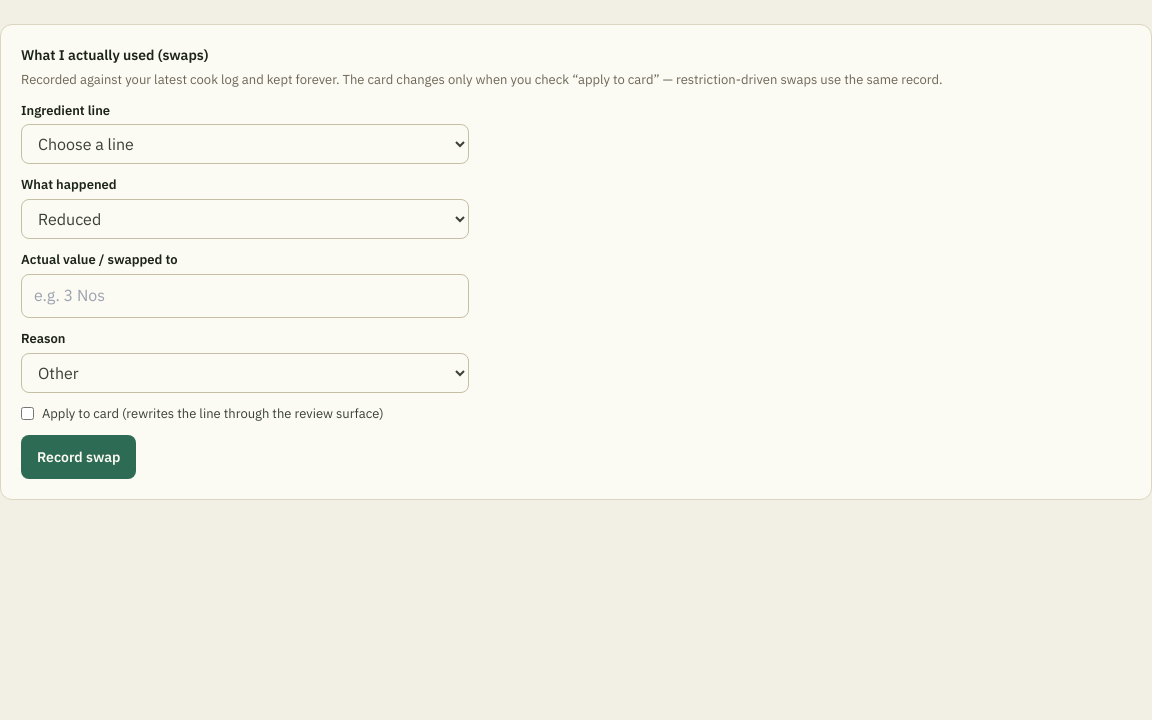
Test case: SwapSection (D-26 F3/H5) › records a swap against the latest cook log without touching the card
Select "Chilli — 5 Nos" in the dropdown labelled "Ingredient line" at x=245, y=144, box [21, 124, 469, 164]
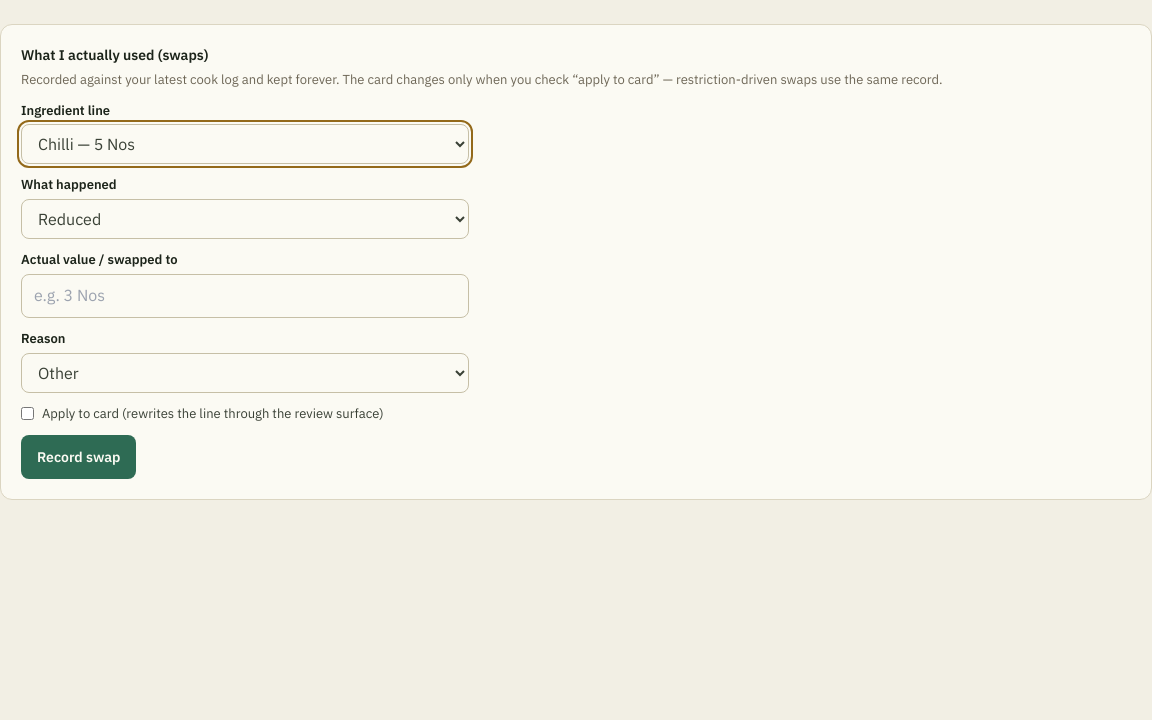
Select "Reduced" in the dropdown named "Swap action" at x=245, y=219, box [21, 199, 469, 239]
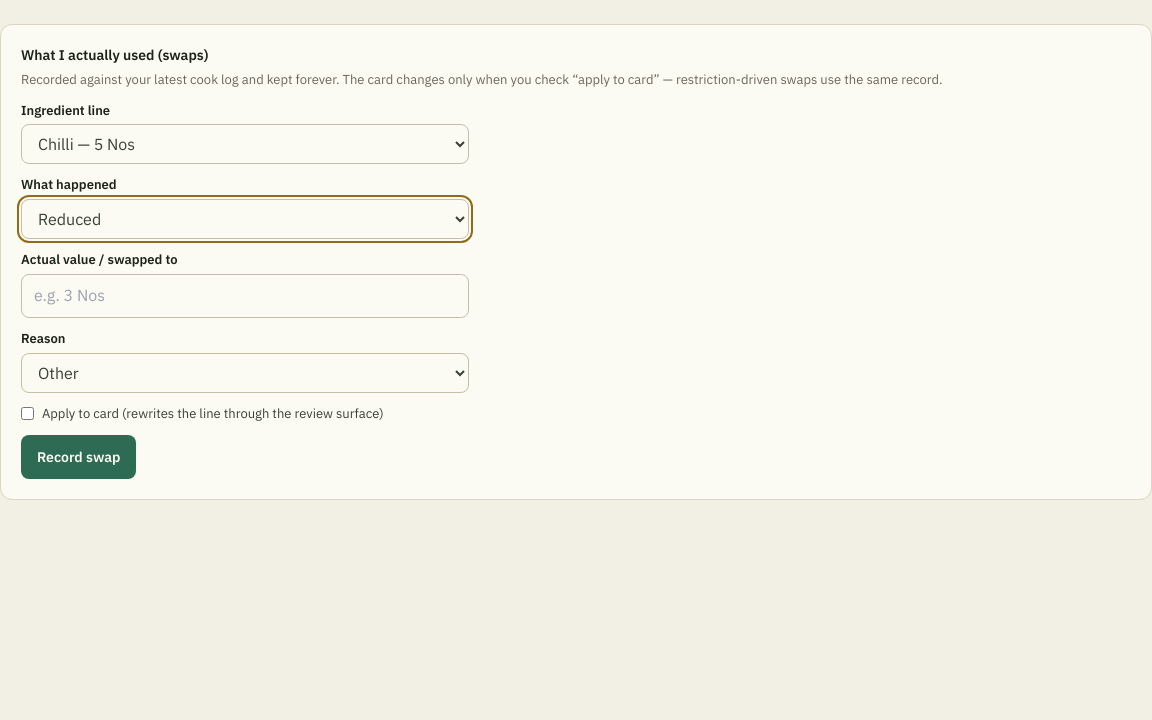
Type "3 Nos" into the field labelled "swapped to" at x=245, y=296, box [21, 274, 469, 318]
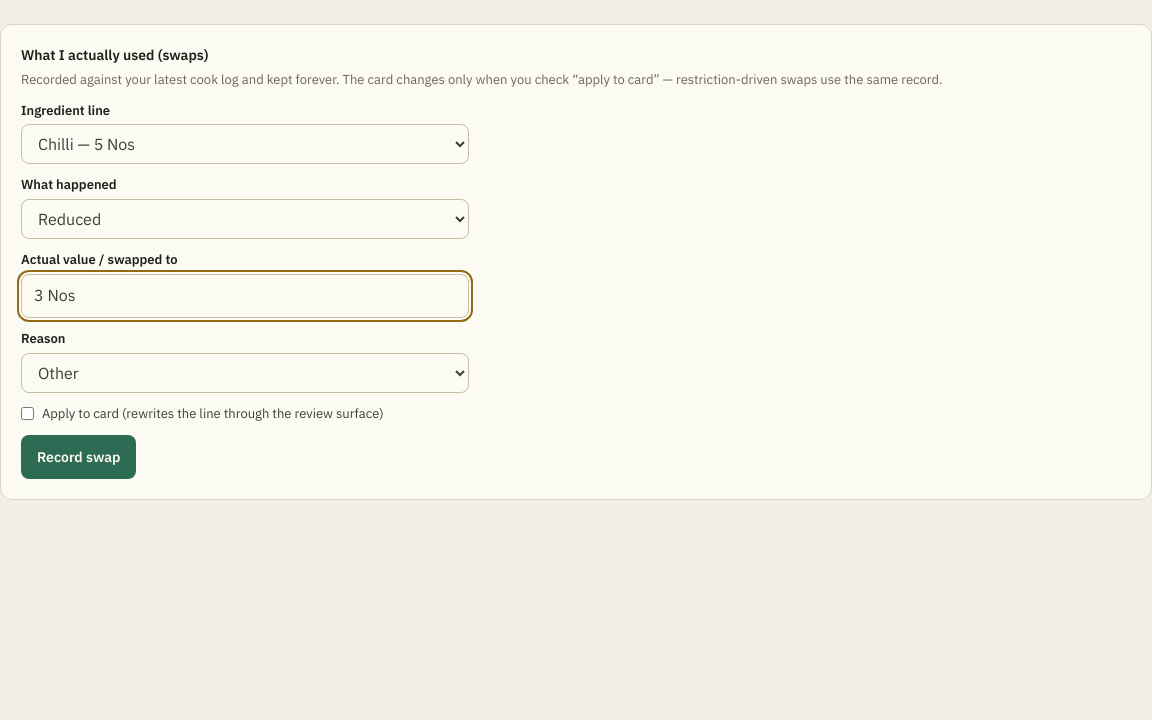
Select "Restriction" in the dropdown named "Swap reason" at x=245, y=372, box [21, 352, 469, 392]
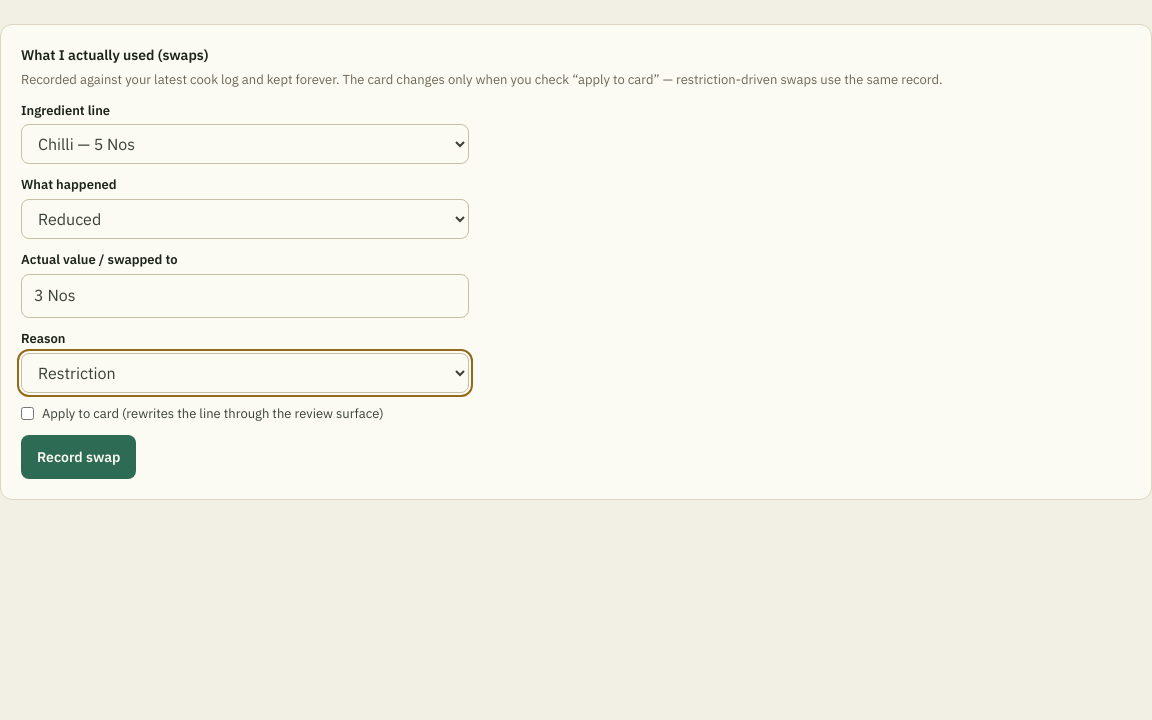
Click the button "Record swap" at x=79, y=457, box [21, 435, 136, 479]
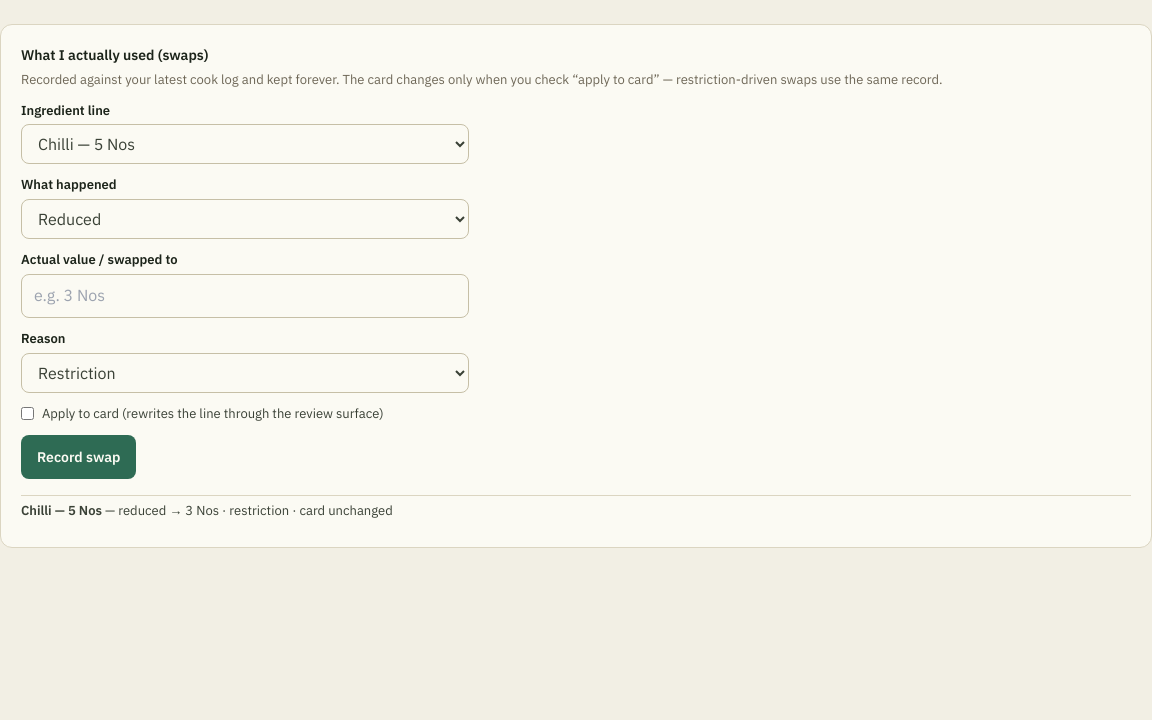
Expected: the text "restriction" is shown, [21, 71, 943, 88]
Now the list item "reduced" is shown, box [118, 502, 166, 519]
Now the list item "card unchanged" is shown, box [289, 502, 393, 519]
